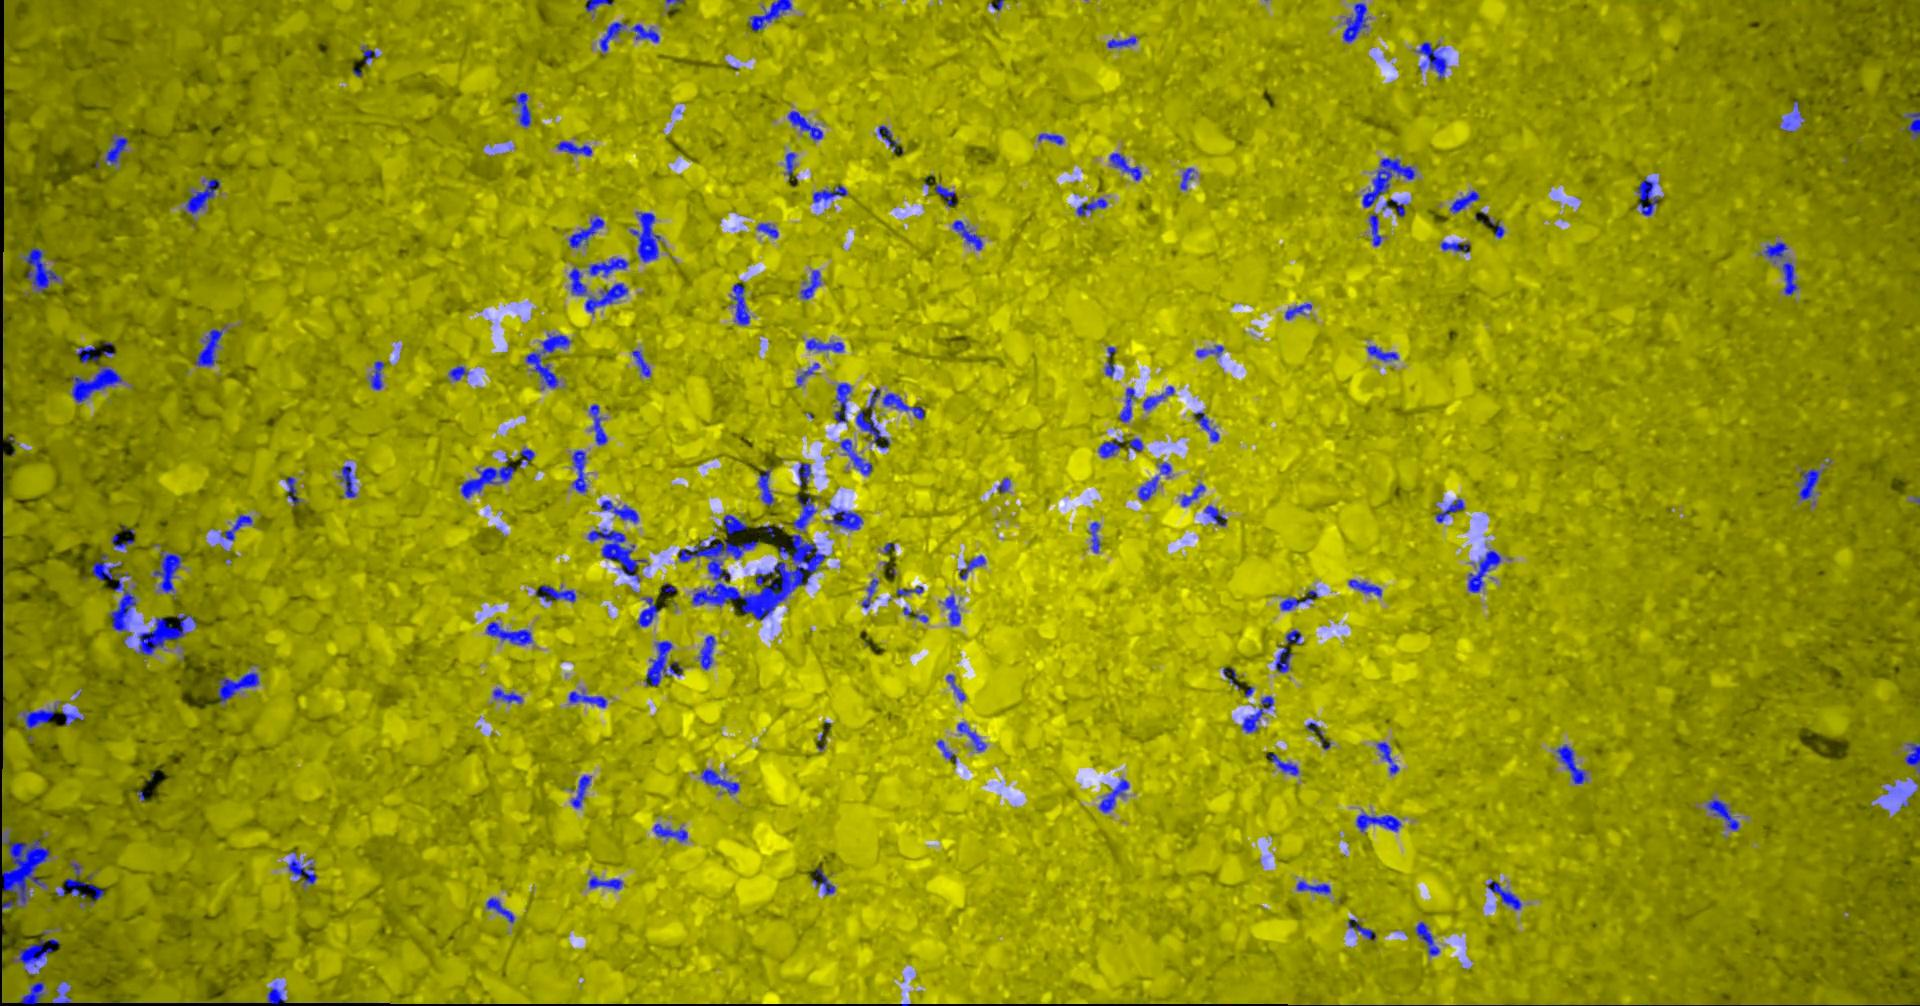ant: (855, 387, 924, 442), (91, 553, 135, 631), (587, 528, 646, 580), (1361, 158, 1415, 207), (524, 333, 570, 387), (138, 614, 194, 654), (460, 459, 514, 498), (71, 365, 121, 401), (645, 640, 682, 686), (23, 246, 58, 292), (17, 931, 58, 967), (629, 212, 659, 260), (1467, 550, 1500, 592), (55, 874, 103, 902), (748, 0, 791, 30), (584, 282, 627, 312), (215, 672, 258, 702), (152, 550, 182, 592), (1415, 41, 1446, 79), (185, 178, 218, 213), (1241, 695, 1272, 732), (841, 438, 872, 474), (194, 328, 223, 366), (1556, 744, 1585, 782), (568, 216, 603, 246), (485, 621, 531, 644), (1486, 880, 1521, 909), (1705, 799, 1738, 829), (787, 111, 822, 140), (1342, 3, 1368, 42), (1098, 779, 1128, 812), (1109, 152, 1142, 180), (824, 504, 862, 528), (700, 768, 738, 793), (951, 220, 982, 249), (1636, 177, 1658, 215), (1355, 812, 1399, 831), (1142, 385, 1175, 410), (1415, 921, 1439, 955), (599, 500, 637, 522), (957, 721, 985, 751), (792, 493, 815, 528), (220, 514, 251, 540), (1279, 589, 1318, 610), (22, 704, 55, 728), (599, 22, 625, 52), (730, 283, 749, 324), (587, 258, 629, 276), (288, 857, 316, 884), (1192, 412, 1218, 441), (485, 897, 514, 922), (589, 404, 607, 445), (1267, 752, 1298, 775), (1798, 467, 1820, 499), (1377, 742, 1398, 774), (104, 136, 128, 164), (1435, 498, 1463, 522), (1305, 721, 1330, 749), (1449, 191, 1479, 212), (757, 469, 775, 506), (834, 382, 851, 422), (959, 555, 985, 579), (17, 981, 43, 1005), (637, 597, 659, 626), (537, 584, 575, 601), (568, 691, 606, 708), (513, 91, 531, 126), (653, 823, 687, 841), (811, 868, 834, 894), (571, 775, 590, 807), (799, 271, 820, 298), (571, 448, 585, 492), (1347, 918, 1375, 940), (1117, 387, 1135, 420), (811, 185, 846, 202), (1180, 483, 1204, 506), (1137, 475, 1158, 500), (1349, 579, 1382, 596), (945, 674, 965, 701), (1076, 198, 1107, 215), (339, 465, 356, 497), (796, 362, 819, 385), (698, 635, 714, 669), (568, 265, 585, 295), (631, 23, 658, 42), (861, 578, 877, 608), (943, 594, 960, 625), (555, 141, 590, 155), (936, 739, 956, 763), (877, 124, 897, 150), (805, 338, 843, 351), (1366, 345, 1398, 361), (631, 351, 650, 376), (1782, 260, 1796, 295), (1764, 241, 1787, 262), (1903, 742, 1919, 771), (1368, 213, 1382, 245), (723, 514, 745, 533), (588, 876, 622, 889), (1098, 439, 1123, 457), (1903, 111, 1919, 138), (1275, 647, 1291, 672), (1297, 880, 1330, 893), (935, 184, 954, 206), (1204, 506, 1225, 525), (370, 359, 383, 389), (284, 476, 298, 506), (493, 688, 522, 702), (1284, 304, 1310, 319), (267, 982, 284, 1005), (1487, 215, 1503, 238), (76, 345, 98, 362), (756, 222, 778, 238), (1103, 345, 1115, 376), (1106, 36, 1135, 47), (1090, 521, 1100, 553), (1178, 166, 1192, 189), (1195, 345, 1223, 357), (110, 533, 133, 547), (448, 365, 469, 380), (797, 462, 810, 486), (585, 0, 612, 11), (1440, 241, 1469, 251), (61, 710, 80, 724), (1037, 133, 1063, 144), (519, 448, 535, 465), (1285, 629, 1302, 644), (1390, 198, 1404, 216), (785, 152, 795, 177), (897, 586, 923, 594), (1222, 667, 1236, 683), (362, 47, 375, 64), (996, 478, 1010, 492), (1128, 438, 1142, 451), (1158, 461, 1171, 474)
